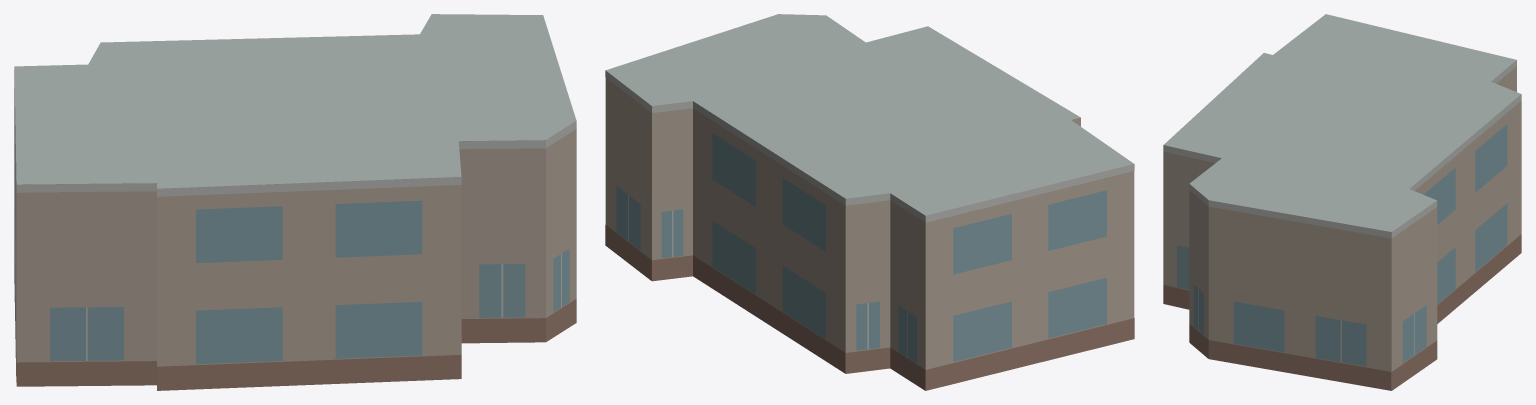
File: survey-upis-32490558.glb
3 views of the same model, side by side, from view 1: azimuth 30°, elevation 25°; view 2: azimuth 150°, elevation 25°; view 3: azimuth 270°, elevation 25° (orthographic). The views are drawn at different scales.
Visible parts, largest first — view 1: survey-upis-32490558.tmp; view 2: survey-upis-32490558.tmp; view 3: survey-upis-32490558.tmp.
Boxes of the visible parts, bbox=[...] form: survey-upis-32490558.tmp: bbox=[14, 14, 576, 390]; survey-upis-32490558.tmp: bbox=[605, 14, 1134, 390]; survey-upis-32490558.tmp: bbox=[1163, 14, 1521, 390].
Bounding box in the file's own units: 17.97 × 6.1 × 12.48.
